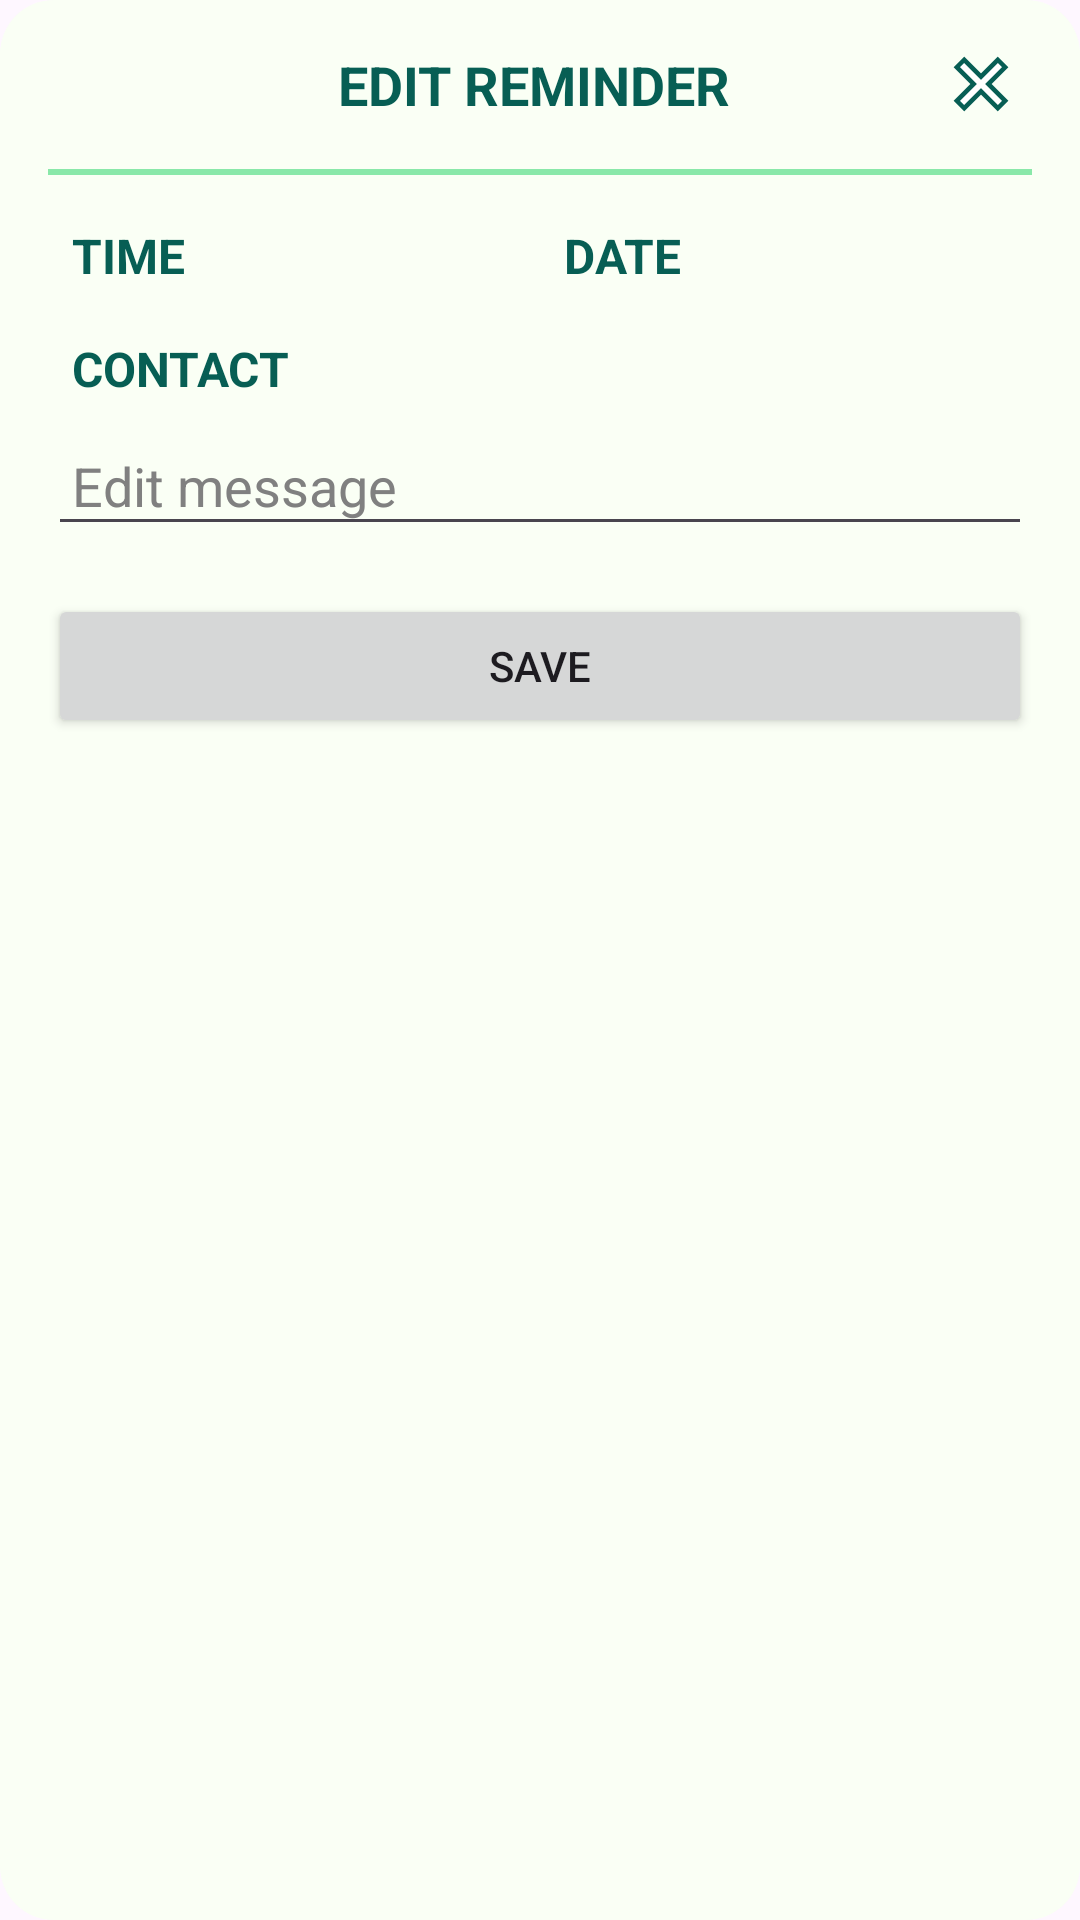

Screen size 1080x1920. Icon name, then its box in pixels as (x1, y1, x2, y2):
Close: (953, 56, 1009, 112)
